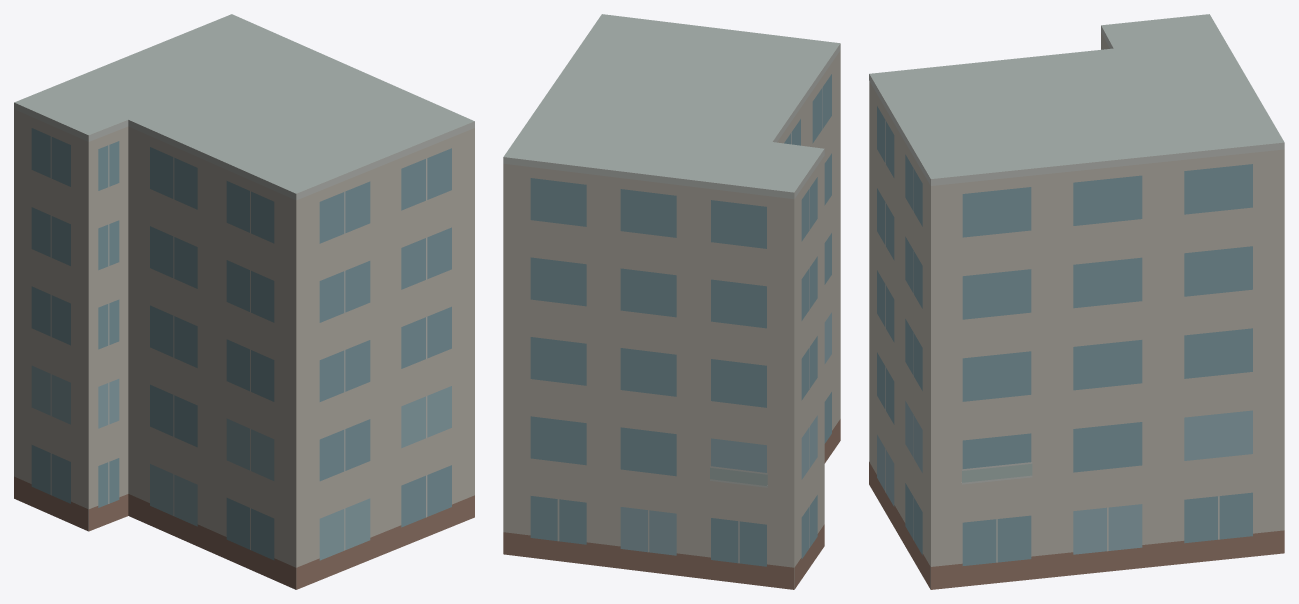
File: survey-upis-32695272.glb
3 views of the same model, side by side, from view 1: azimuth 30°, elevation 25°; view 2: azimuth 150°, elevation 25°; view 3: azimuth 270°, elevation 25° (orthographic). The views are drawn at different scales.
Parts seen in each view (by area): view 1: survey-upis-32695272.tmp; view 2: survey-upis-32695272.tmp; view 3: survey-upis-32695272.tmp.
Part boxes in pixels (x1,y1,x2,y2): survey-upis-32695272.tmp: (14, 14, 474, 589); survey-upis-32695272.tmp: (503, 14, 840, 589); survey-upis-32695272.tmp: (869, 14, 1284, 589).
Size of the model in its own units: 12.55 by 14.55 by 13.35.
